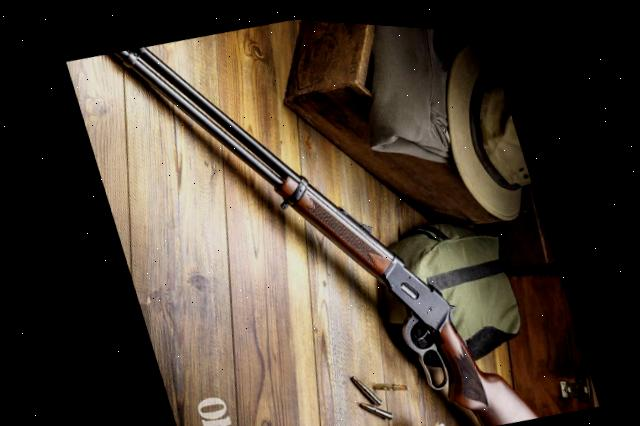rifle: (88, 5, 553, 426)
